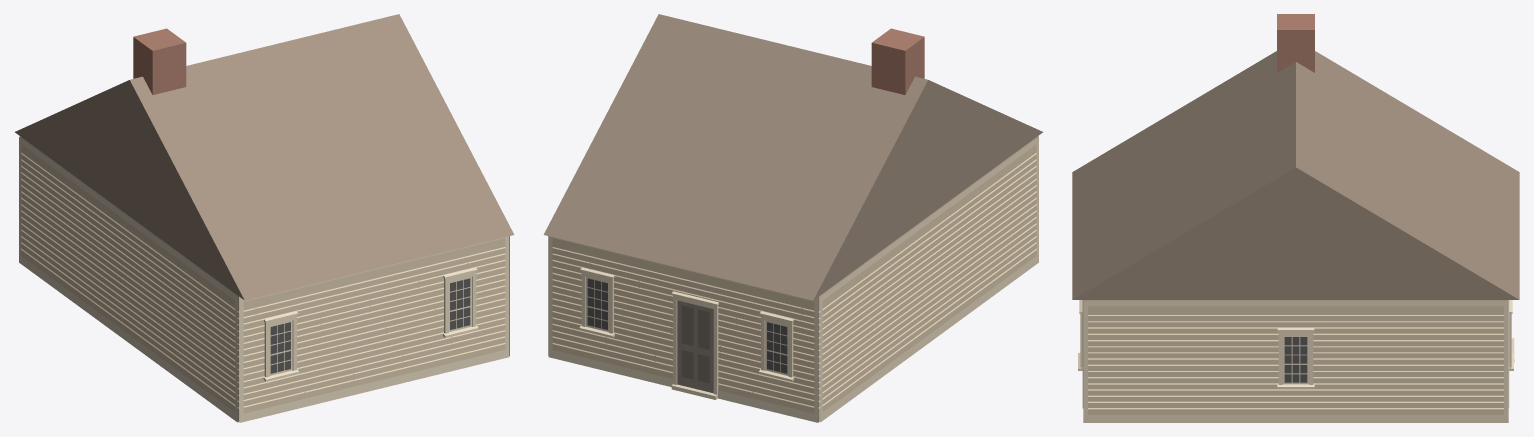
File: recon_1835_blk_randolph_market_d5_11__inferred_1835.glb
The picture shows the model from 3 angles, left to right: view 1: azimuth 30°, elevation 25°; view 2: azimuth 150°, elevation 25°; view 3: azimuth 270°, elevation 25°; orthographic projection. The views are drawn at different scales.
Visible parts, largest first — view 1: recon_1835_blk_randolph_market_d5_11__inferred_1835; view 2: recon_1835_blk_randolph_market_d5_11__inferred_1835; view 3: recon_1835_blk_randolph_market_d5_11__inferred_1835.
Boxes of the visible parts, x1,y1,x2,y2 form: recon_1835_blk_randolph_market_d5_11__inferred_1835: (15,14,514,422); recon_1835_blk_randolph_market_d5_11__inferred_1835: (543,14,1042,422); recon_1835_blk_randolph_market_d5_11__inferred_1835: (1072,14,1519,422).
Bounding box in the file's own units: 6.88 × 7.03 × 9.94.
